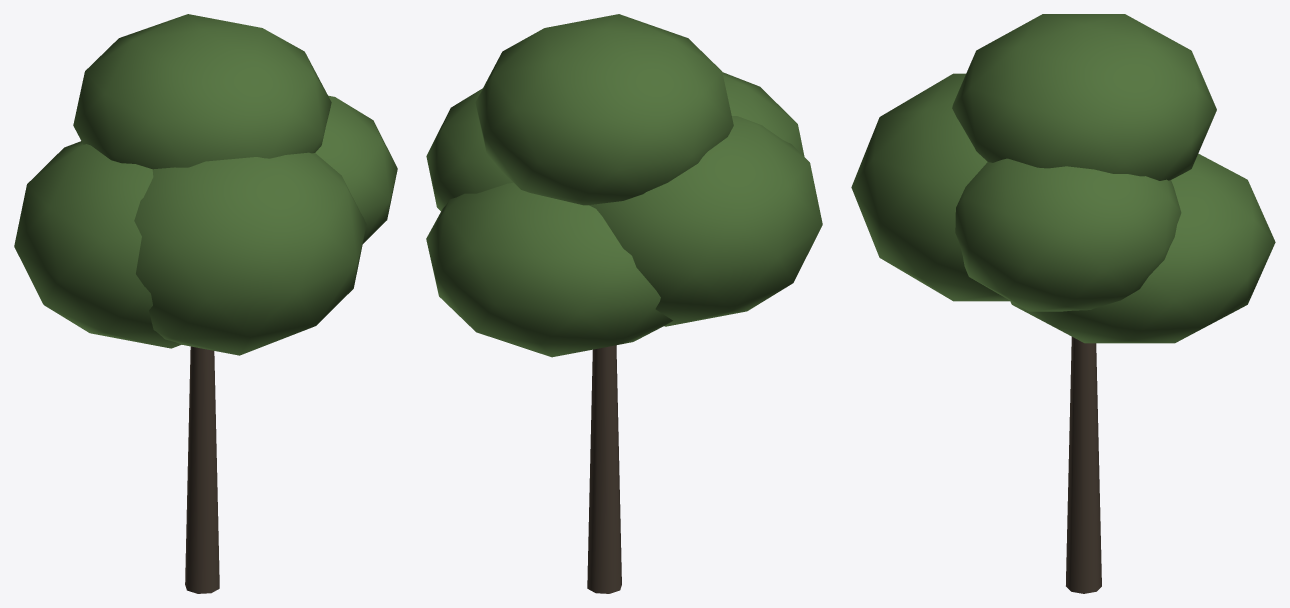
Rendered from Tree_Broadleaf_A.fbx.
The picture shows the model from 3 angles, left to right: view 1: azimuth 30°, elevation 25°; view 2: azimuth 150°, elevation 25°; view 3: azimuth 270°, elevation 25°; orthographic projection.
Visible parts, largest first — view 1: Tree_Broadleaf_A; view 2: Tree_Broadleaf_A; view 3: Tree_Broadleaf_A.
Boxes of the visible parts, x1,y1,x2,y2 form: Tree_Broadleaf_A: (14,14,397,593); Tree_Broadleaf_A: (426,14,822,593); Tree_Broadleaf_A: (851,14,1275,593).
Size of the model in its own units: 7.63 by 11.62 by 7.96.
